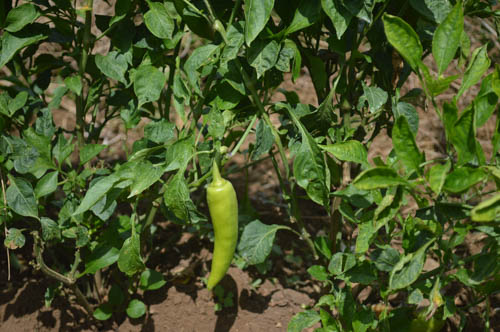ChiliPepper: (203, 188, 239, 293)
